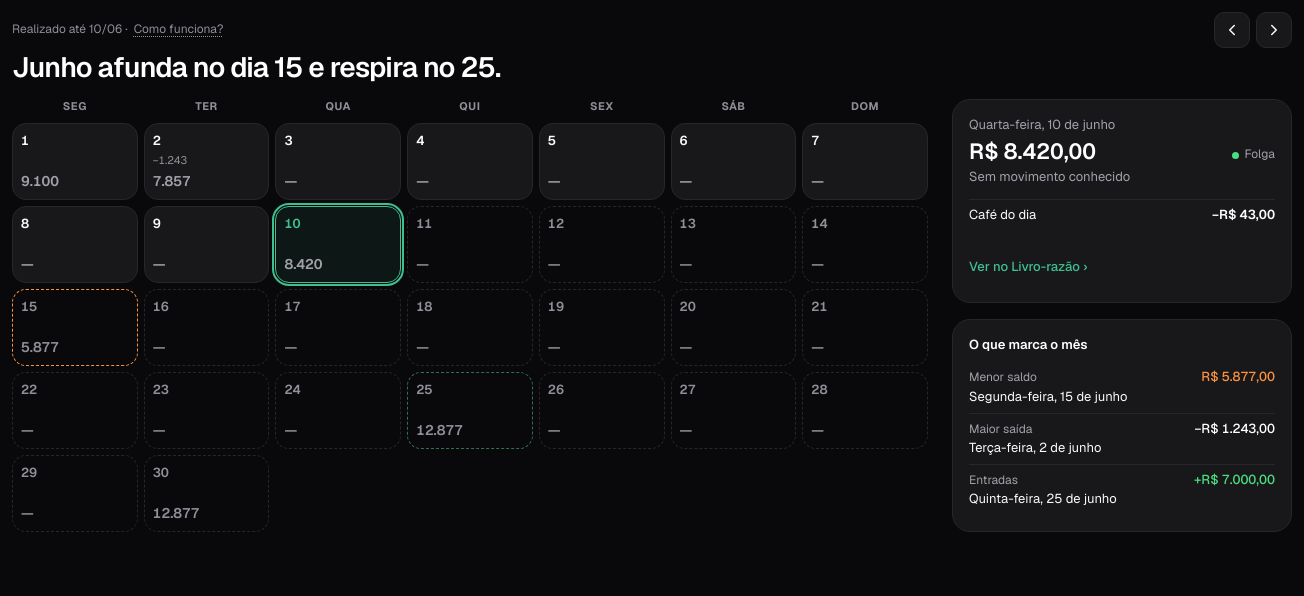
YearGridScreen (Calendário) › dia com componentes mas sem itens nunca alega 'sem movimento'
Click the cell named "2 de junho".
click(207, 161)  # box [144, 123, 269, 200]
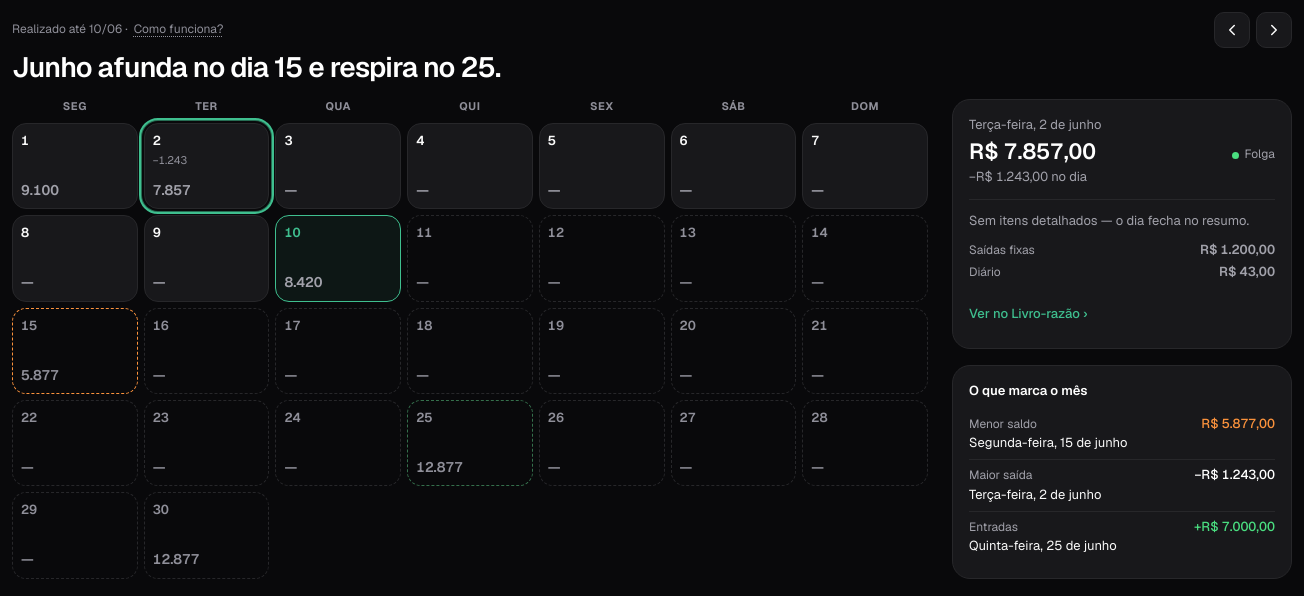
Expected: the text "Sem itens detalhados — o dia fecha no resumo." is shown, [969, 199, 1275, 230]
Expected: the text "Saídas fixas" is shown, [969, 242, 1035, 259]
